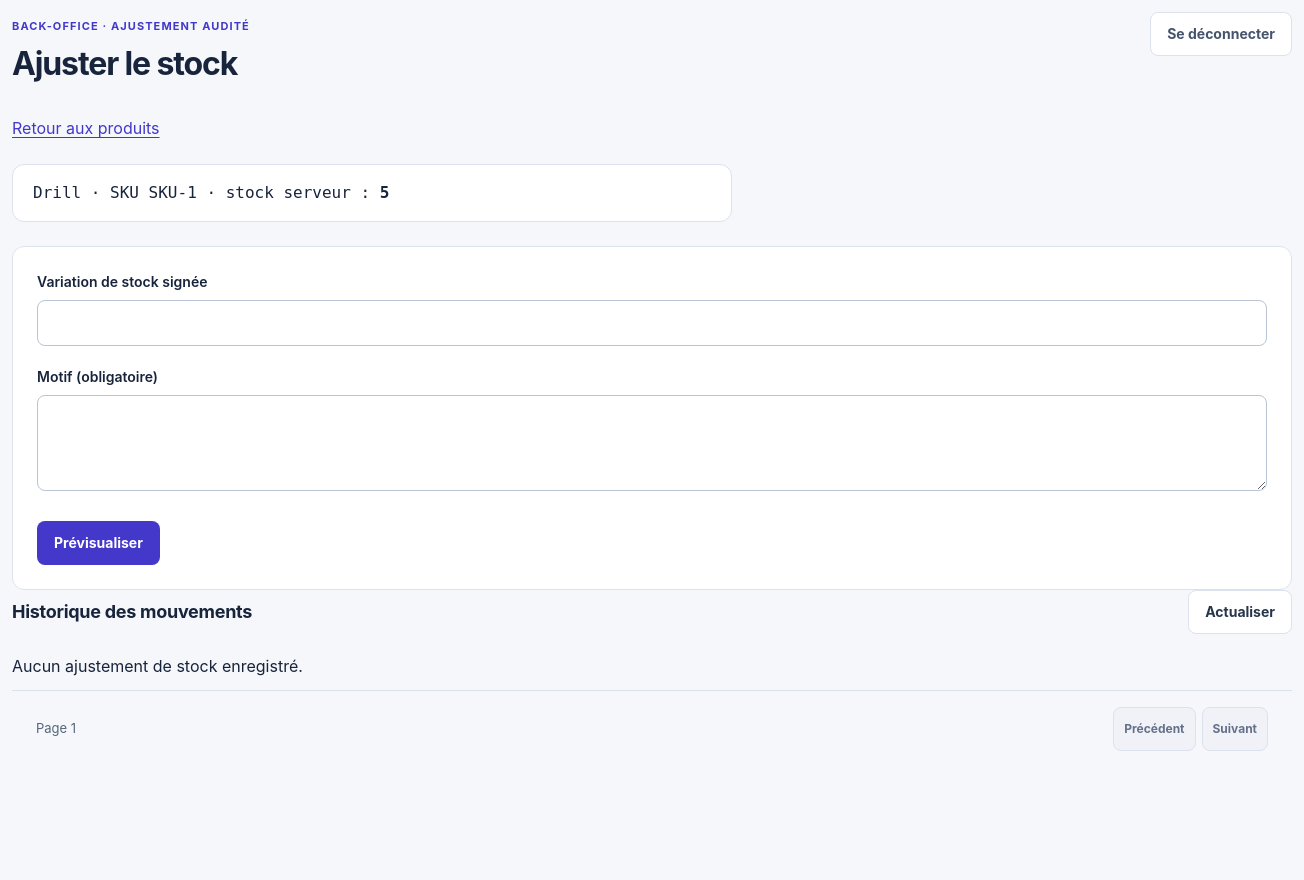
a definitive insufficient-stock rejection reconciles without automatic retry
Type "-3" into the field with id "stock-delta".
click(652, 323); type("-3")  # box [37, 300, 1267, 346]
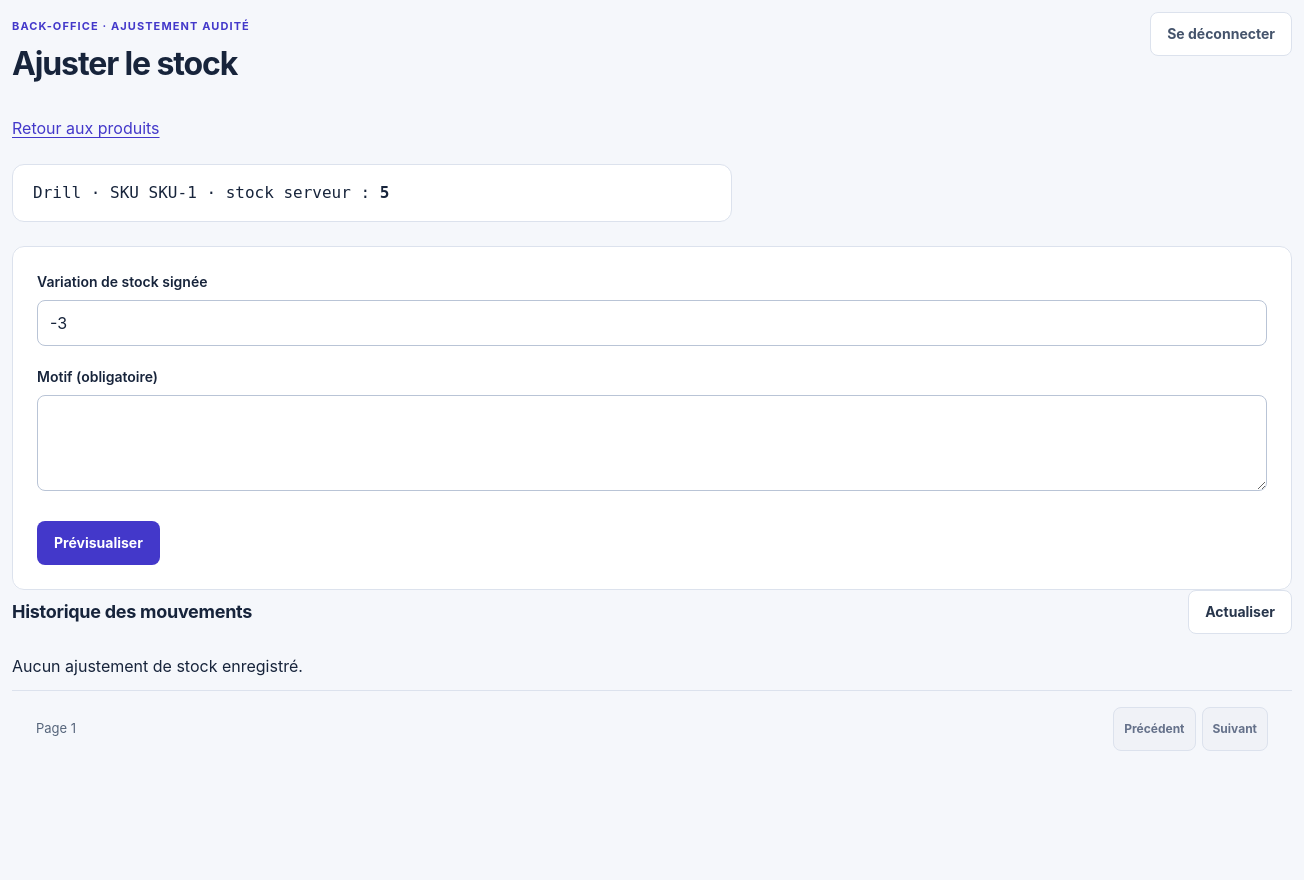
Type "count" into the text box with id "stock-reason".
click(652, 443); type("count")  # box [37, 395, 1267, 491]
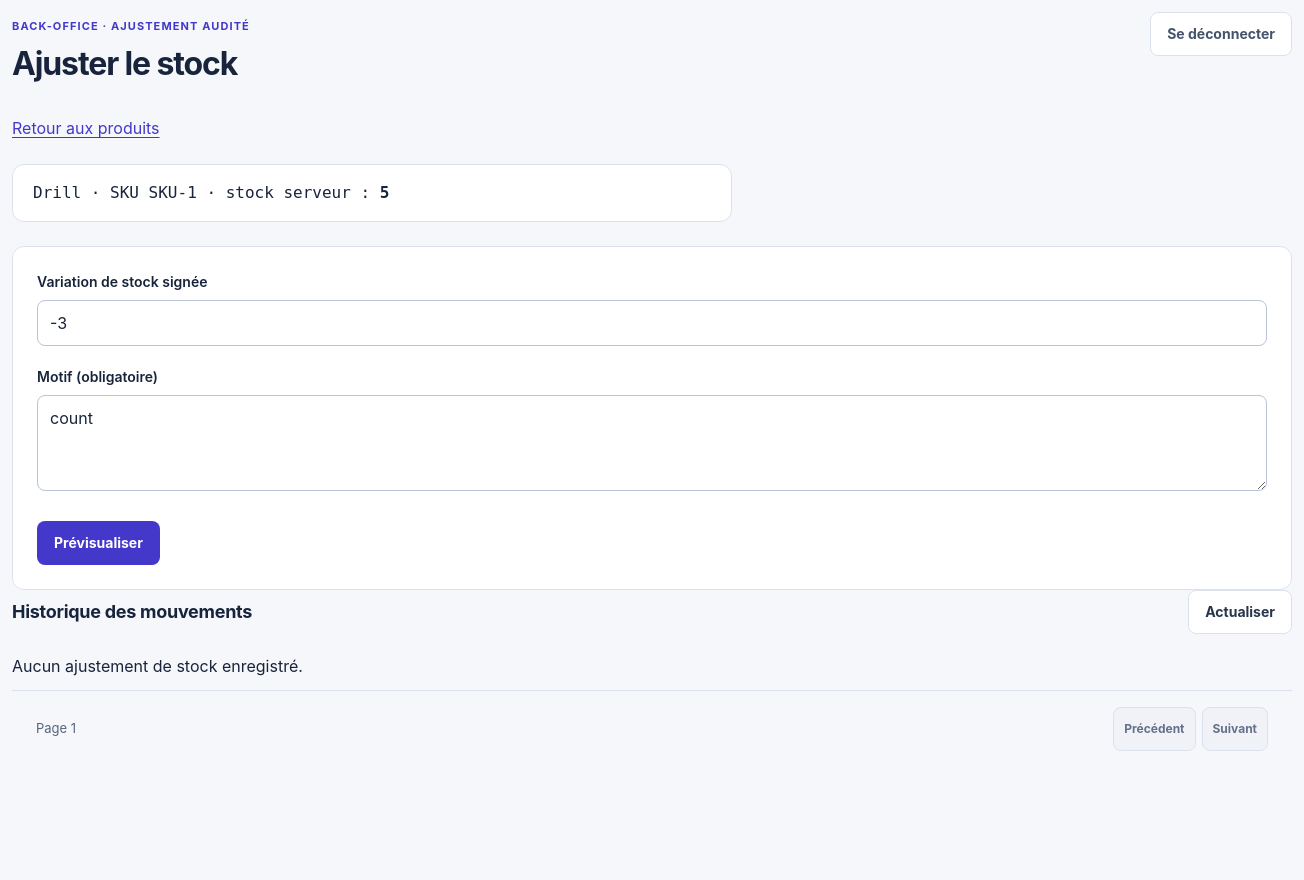
Submit the form, box [12, 246, 1292, 590]
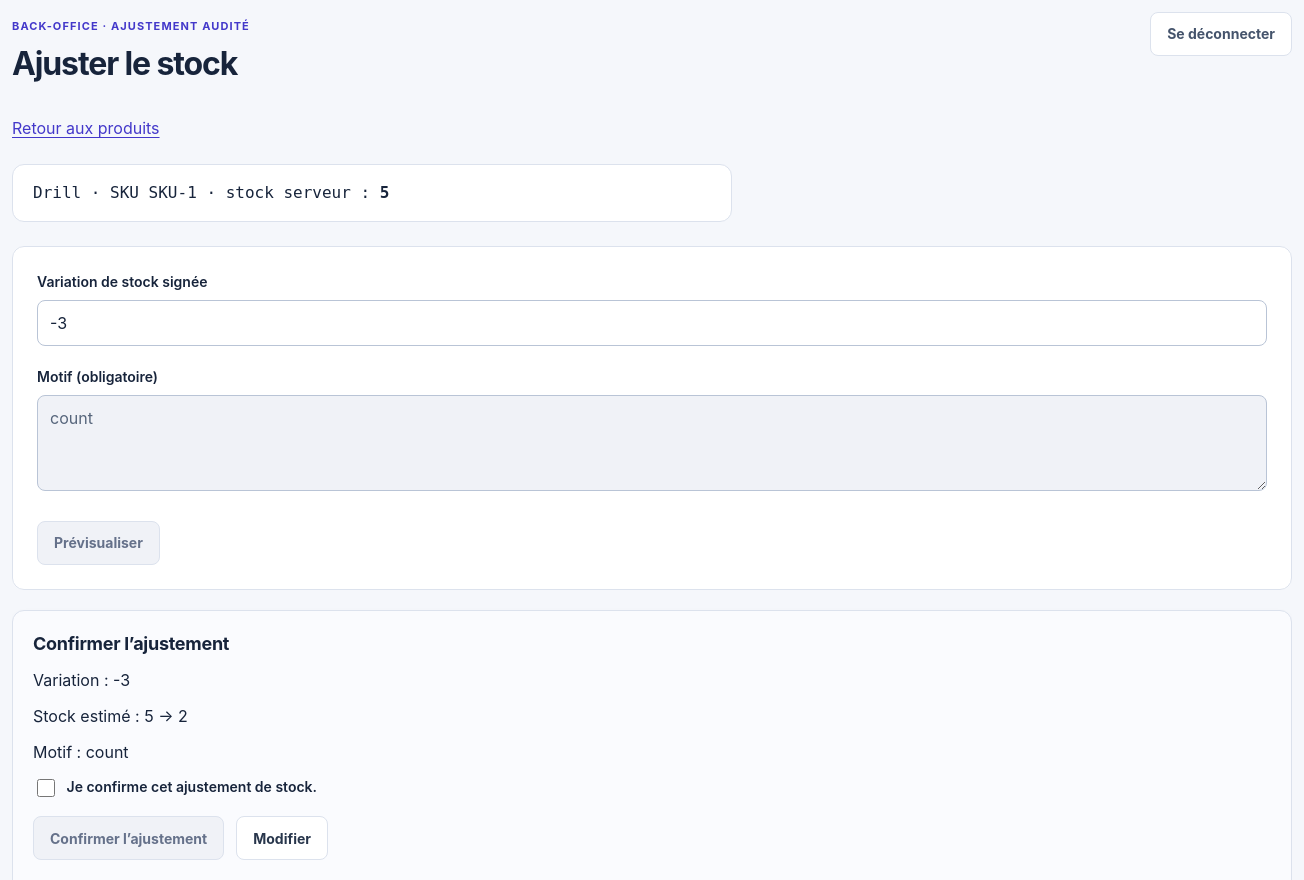
Click the checkbox labelled "Je confirme cet ajustement de stock.".
click(46, 788)  # box [37, 779, 55, 797]
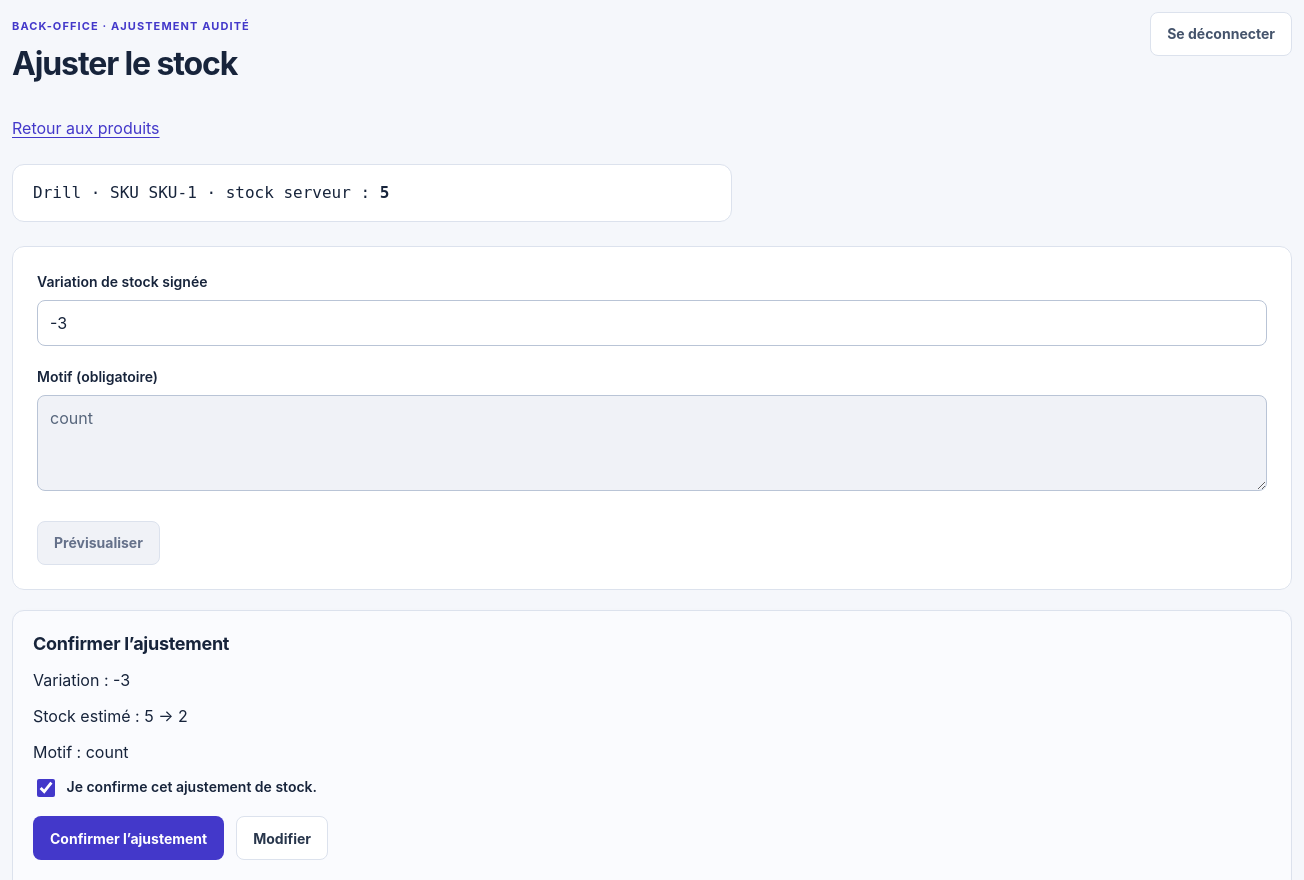
Click the button "Confirmer l’ajustement".
click(129, 838)  # box [33, 816, 224, 860]
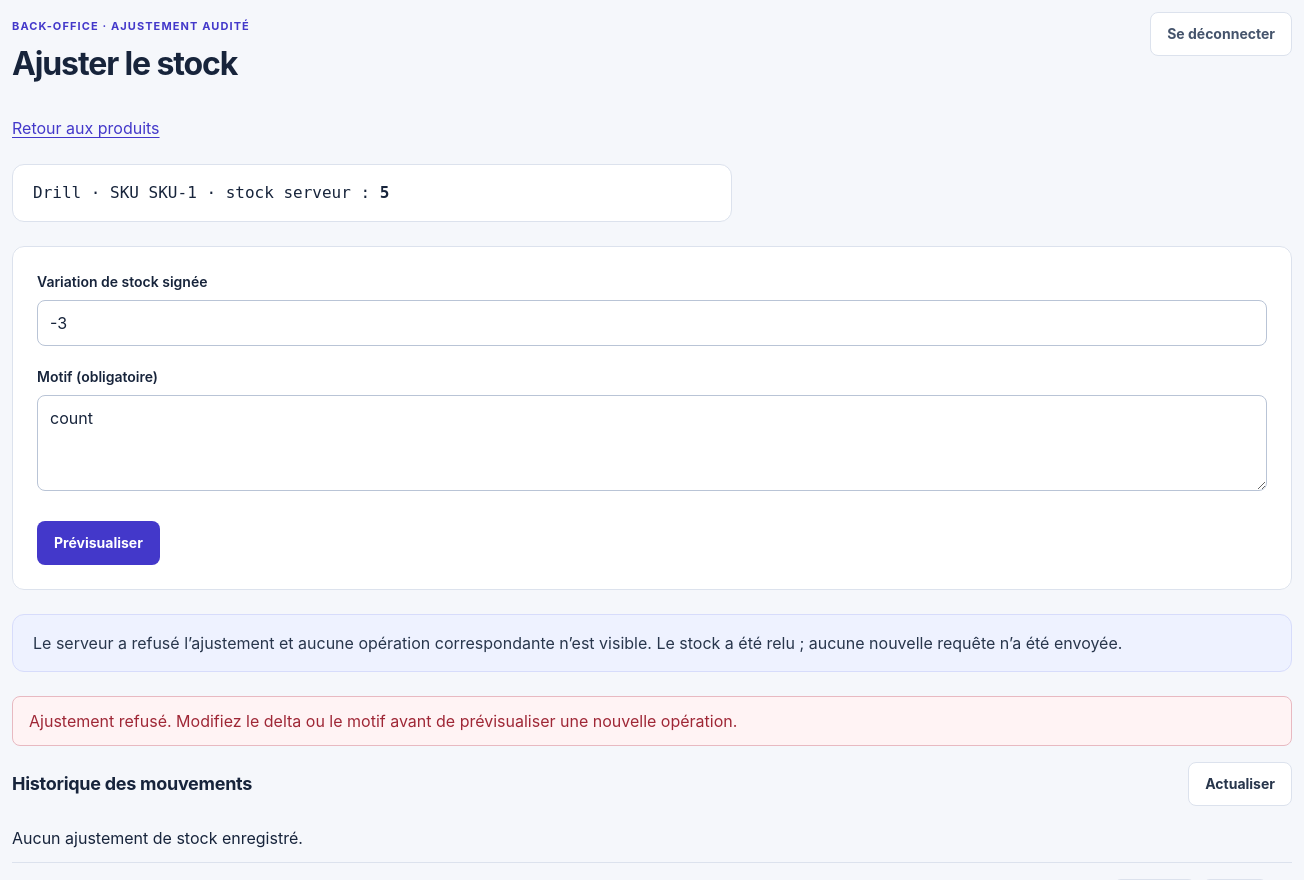
Check: the text "stock serveur : 5" is shown, box [12, 164, 732, 222]
Check: the text "Ajustement refusé" is shown, box [29, 711, 737, 731]
